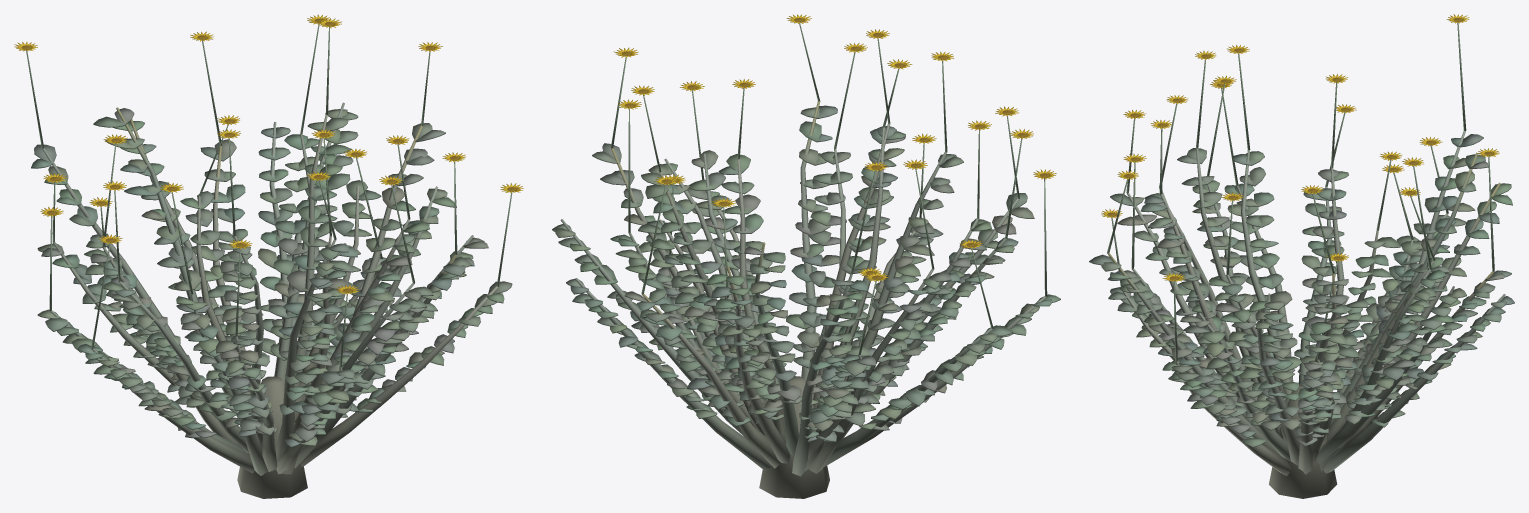
File: brittlebush_hybrid.glb
The picture shows the model from 3 angles, left to right: view 1: azimuth 30°, elevation 25°; view 2: azimuth 150°, elevation 25°; view 3: azimuth 270°, elevation 25°; orthographic projection. The views are drawn at different scales.
Parts seen in each view (by area): view 1: BrittlebushOvalDiamondLeafCrown, BrittlebushManyGrayStems, BrittlebushTallFlowerStalks, BrittlebushYellowRayFlorets, BrittlebushCentralDiskFlorets; view 2: BrittlebushOvalDiamondLeafCrown, BrittlebushManyGrayStems, BrittlebushTallFlowerStalks, BrittlebushYellowRayFlorets, BrittlebushCentralDiskFlorets; view 3: BrittlebushOvalDiamondLeafCrown, BrittlebushManyGrayStems, BrittlebushTallFlowerStalks, BrittlebushYellowRayFlorets, BrittlebushCentralDiskFlorets.
Boxes of the visible parts, left/top/right/bottom form: BrittlebushOvalDiamondLeafCrown: left=31, top=108, right=512, bottom=447; BrittlebushManyGrayStems: left=42, top=102, right=498, bottom=498; BrittlebushTallFlowerStalks: left=26, top=24, right=512, bottom=367; BrittlebushYellowRayFlorets: left=14, top=14, right=523, bottom=294; BrittlebushCentralDiskFlorets: left=21, top=18, right=516, bottom=292; BrittlebushOvalDiamondLeafCrown: left=552, top=105, right=1060, bottom=442; BrittlebushManyGrayStems: left=560, top=101, right=1046, bottom=498; BrittlebushTallFlowerStalks: left=610, top=23, right=1047, bottom=354; BrittlebushYellowRayFlorets: left=614, top=14, right=1056, bottom=281; BrittlebushCentralDiskFlorets: left=622, top=18, right=1049, bottom=279; BrittlebushOvalDiamondLeafCrown: left=1089, top=134, right=1514, bottom=447; BrittlebushManyGrayStems: left=1107, top=130, right=1505, bottom=498; BrittlebushTallFlowerStalks: left=1107, top=22, right=1494, bottom=361; BrittlebushYellowRayFlorets: left=1101, top=14, right=1499, bottom=281; BrittlebushCentralDiskFlorets: left=1107, top=18, right=1493, bottom=279.
Bounding box in the file's own units: 1.09 × 1.07 × 1.06.
